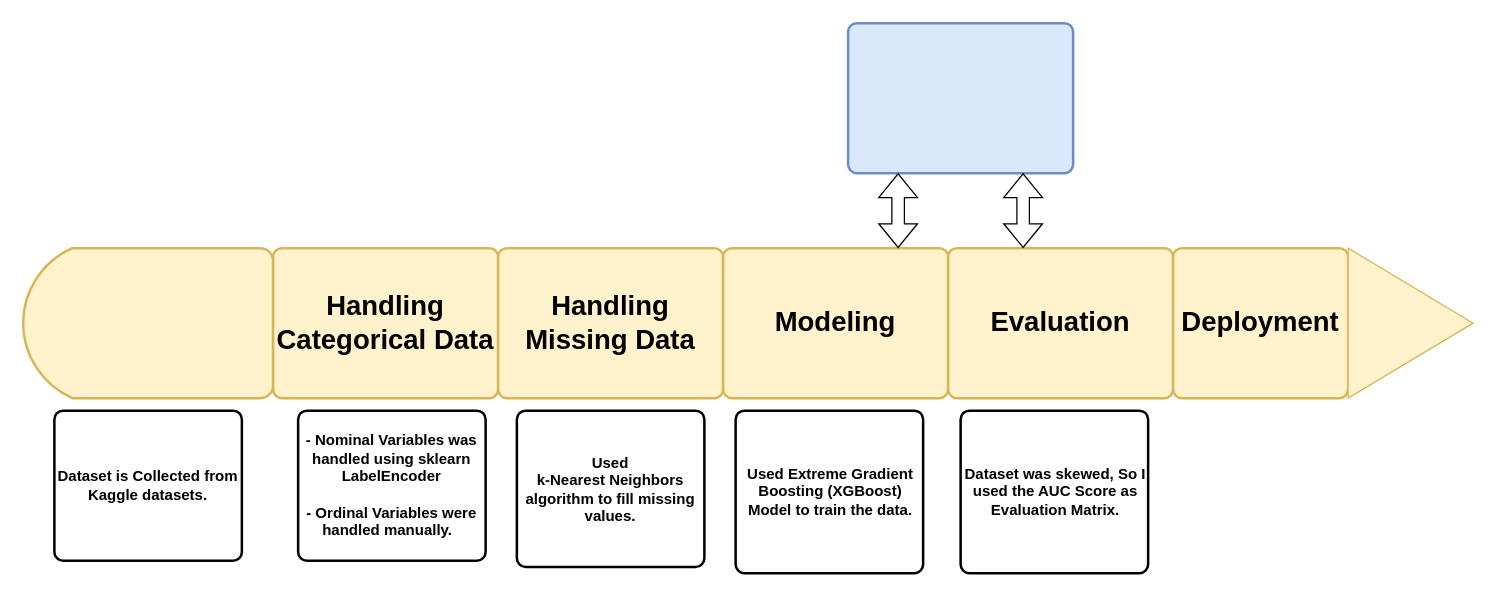
Image size: 1495x595. Some labels were removed from this diagram. Each missing label, with the box of its shape:
Data Collection: (21, 246, 274, 399)
Hyperparameter Optimization: (846, 21, 1074, 174)
